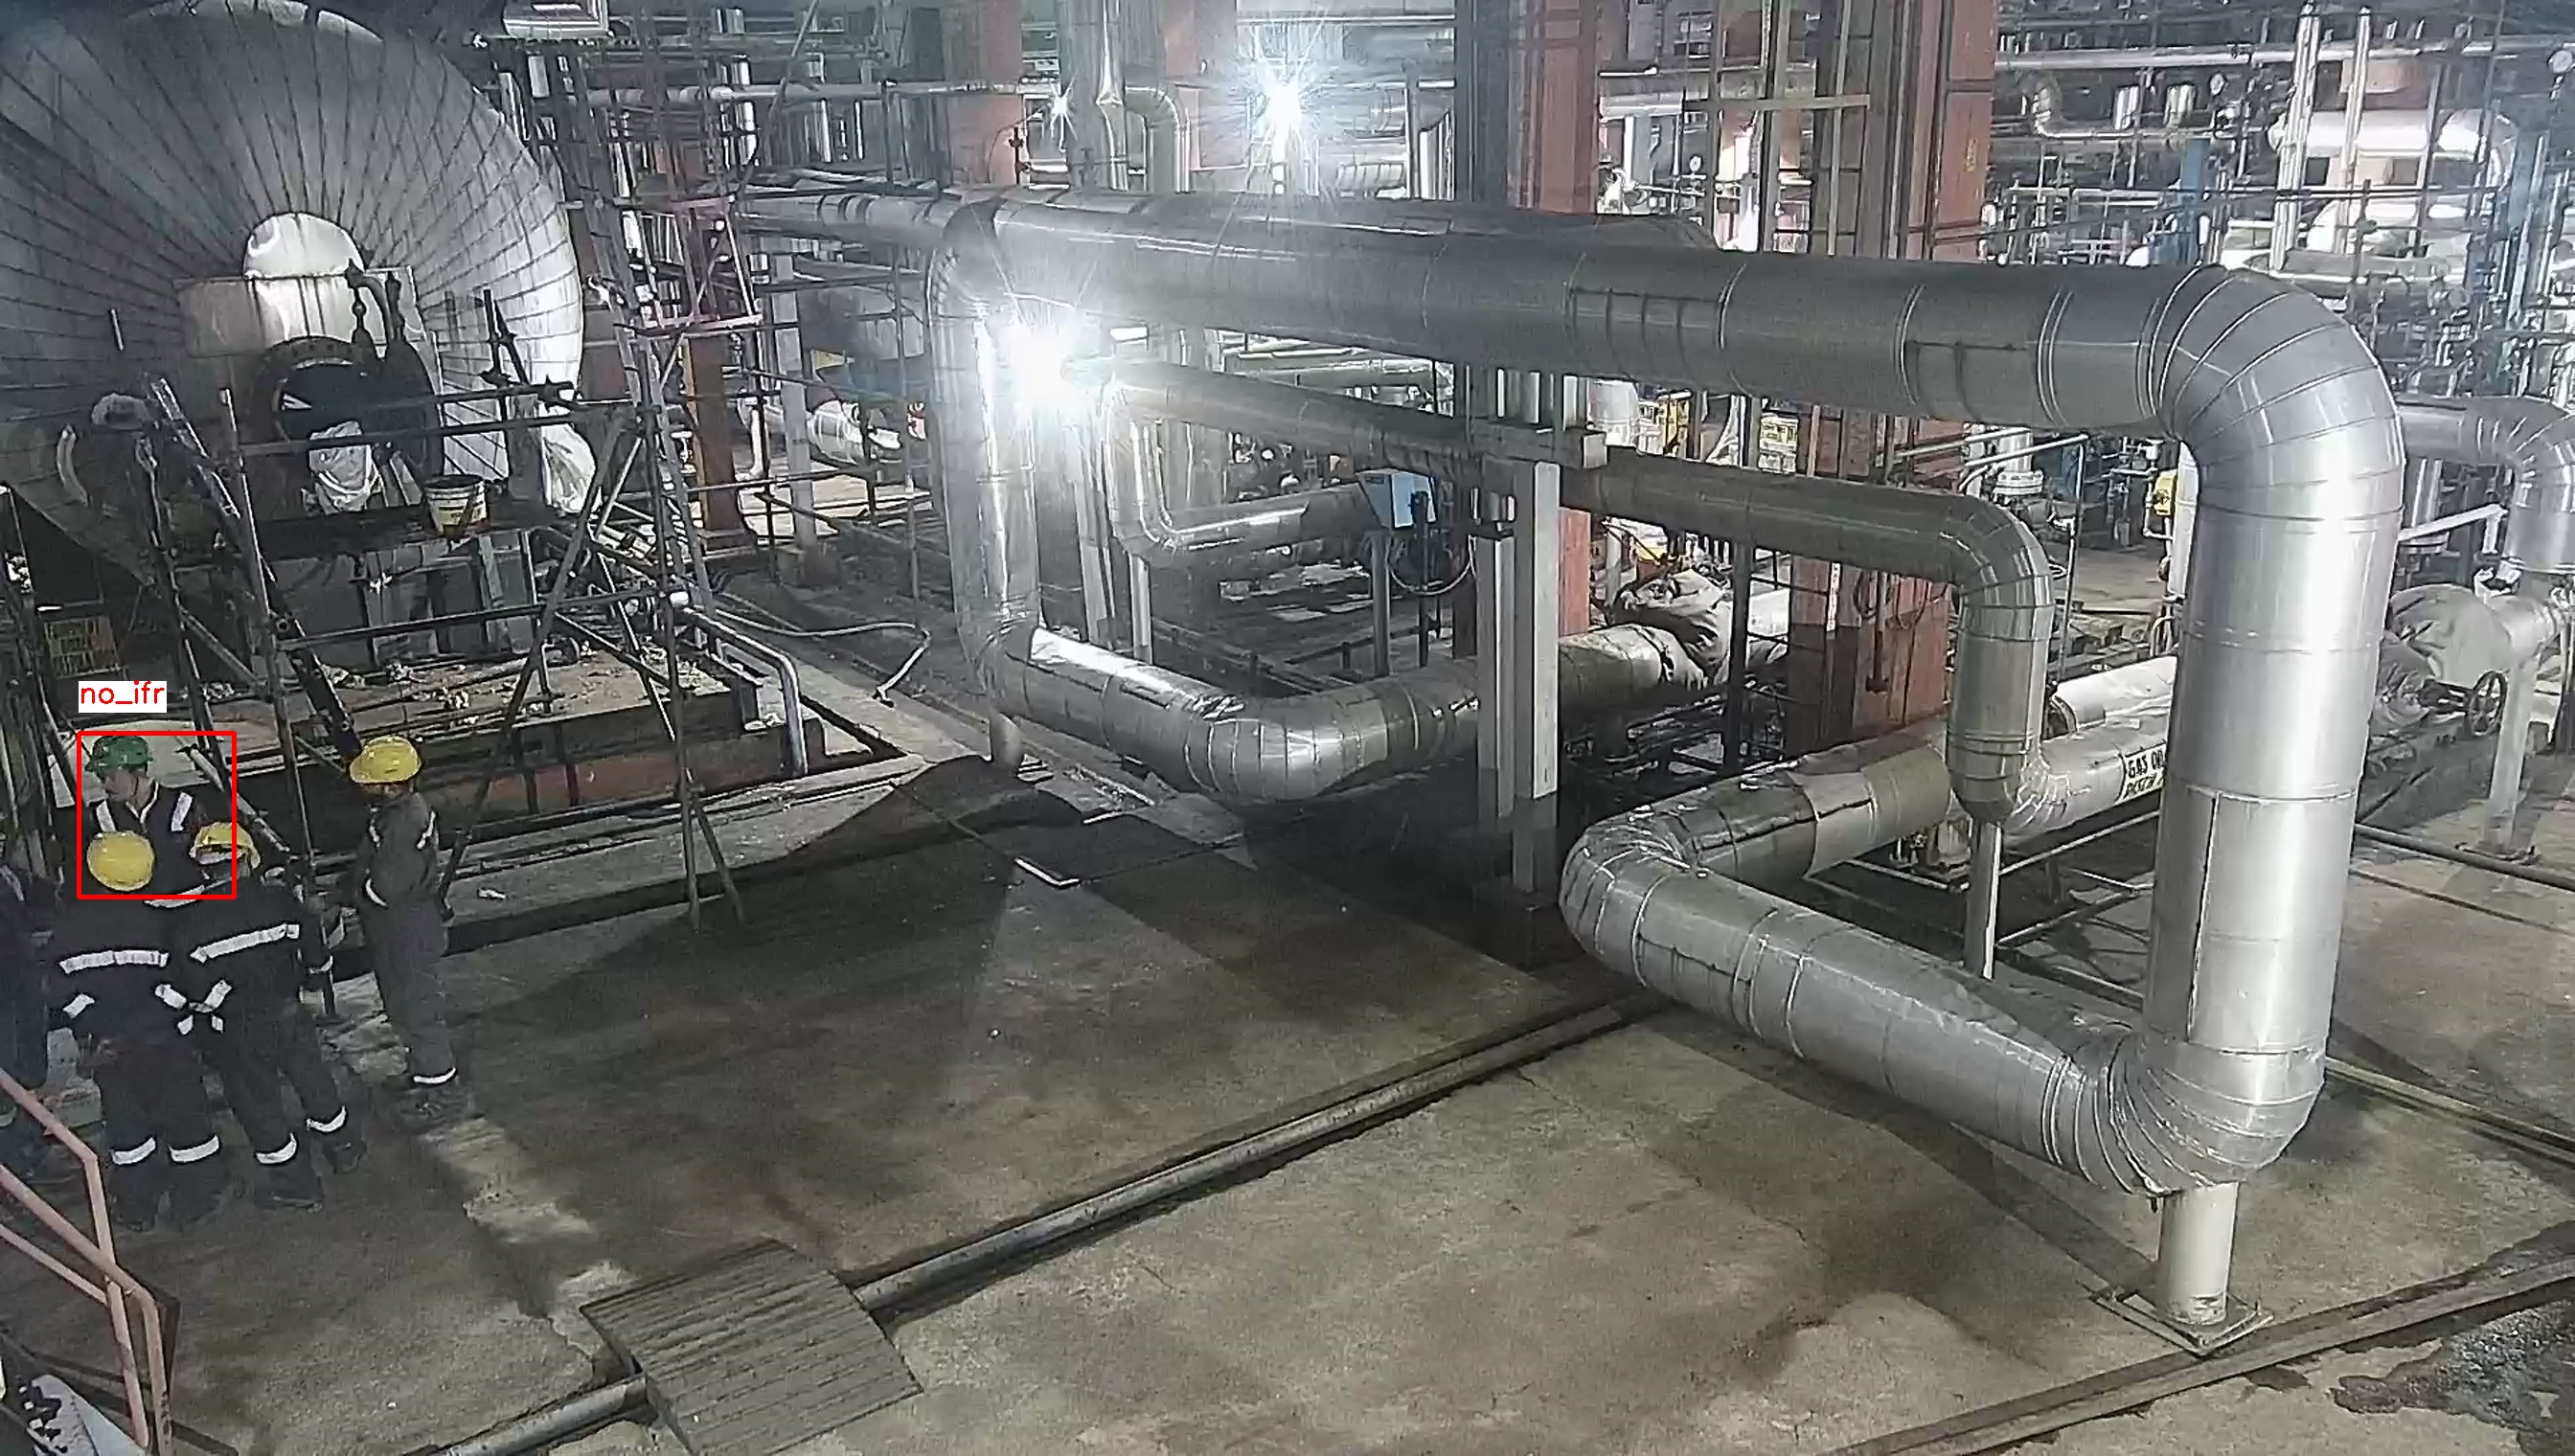Helmets: (341, 732, 432, 794), (85, 823, 159, 897), (81, 734, 157, 773)
IFR_Suit: (39, 906, 230, 1196), (348, 800, 469, 1095)
